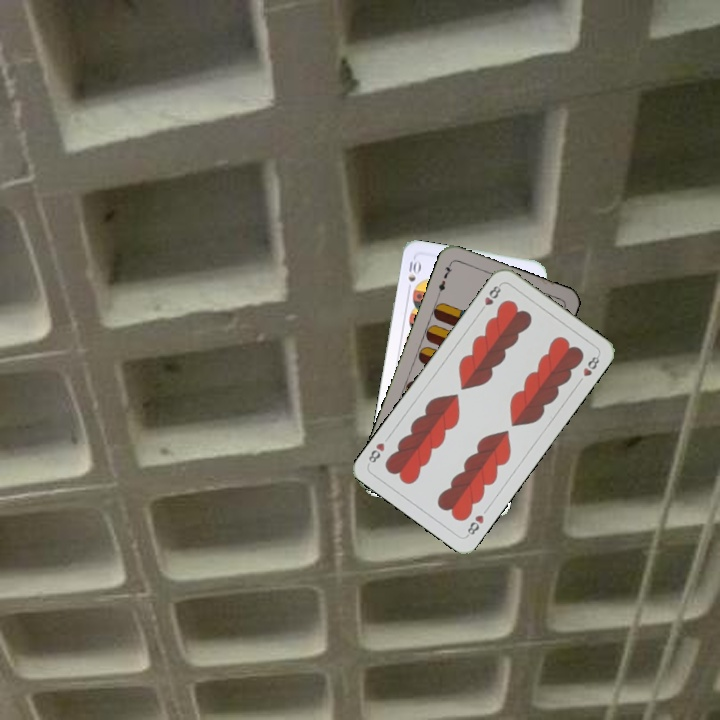E7: (434, 259, 455, 298)
H8: (476, 280, 504, 315), (463, 511, 487, 539)
S10: (404, 257, 422, 295)
